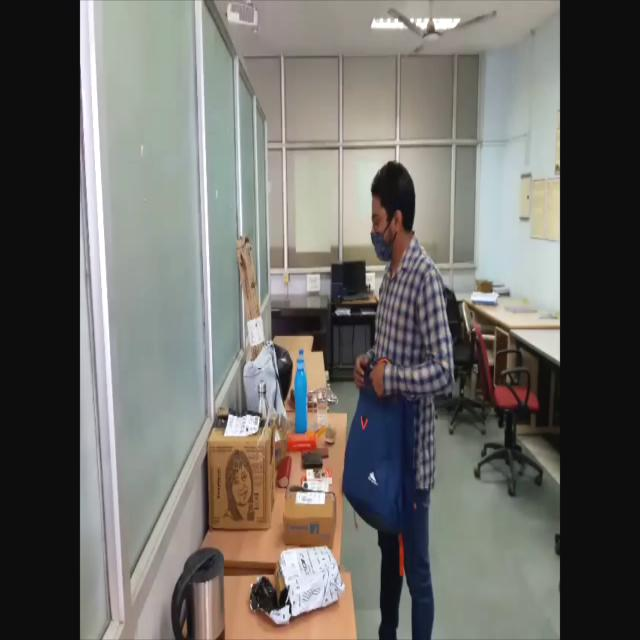shoplifting: (341, 155, 459, 640)
